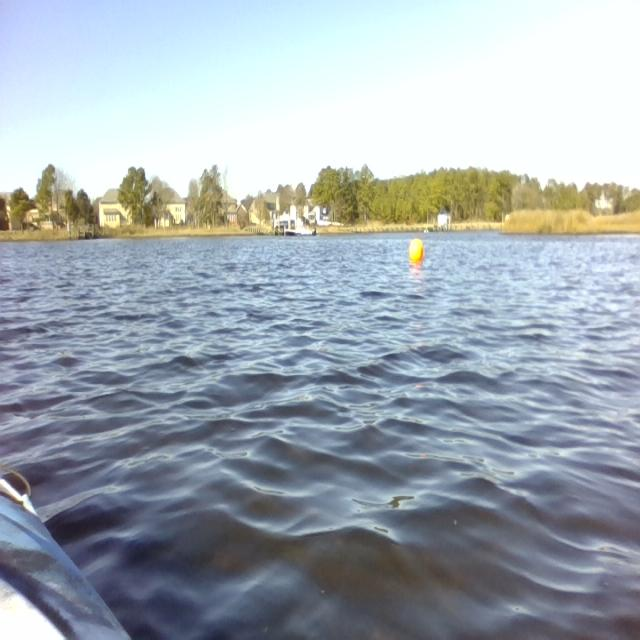Buoy: (402, 234, 427, 266)
